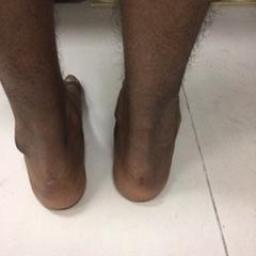Back View -Both Feet-: (3, 52, 206, 221)
